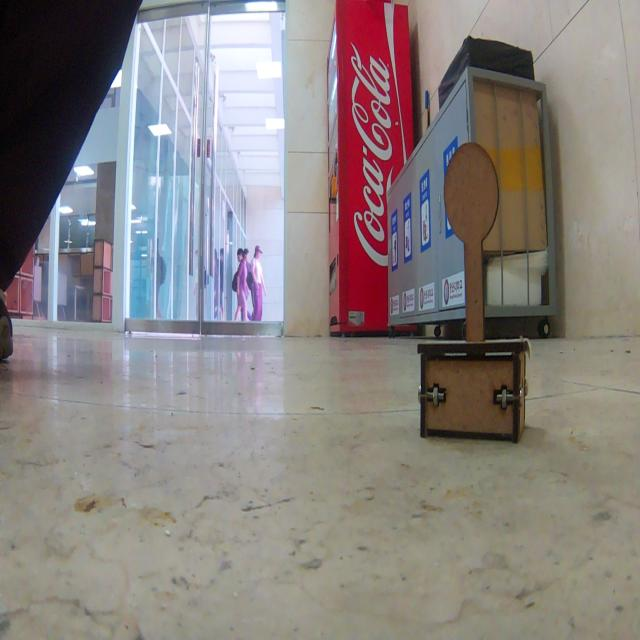target: (415, 142, 529, 442)
